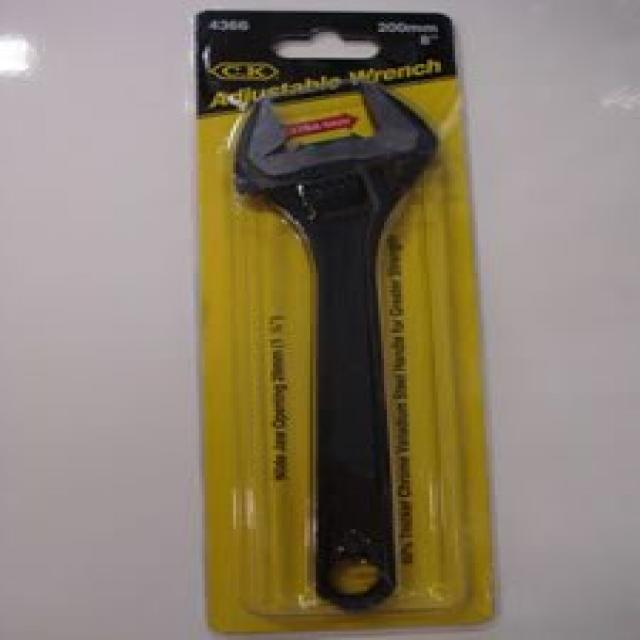wrench: (226, 75, 457, 606)
